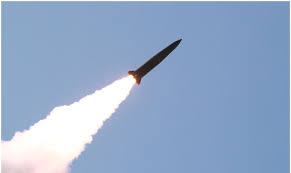maybay_muctieu: (129, 33, 184, 86)
